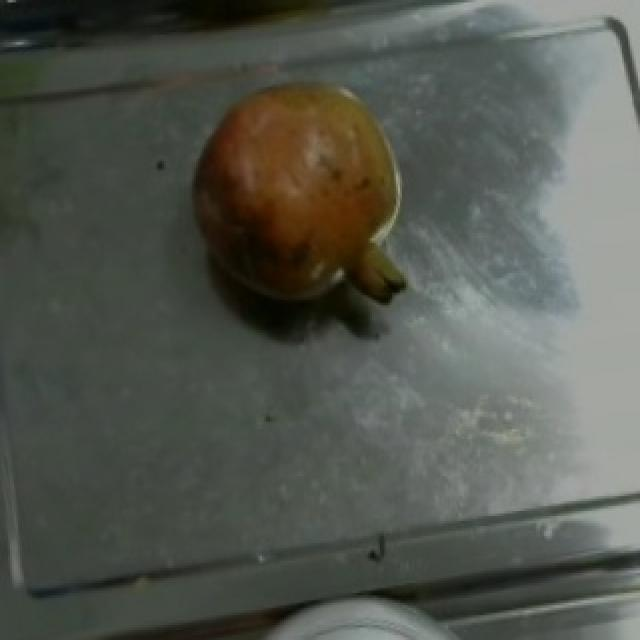fruit: (170, 57, 426, 327)
